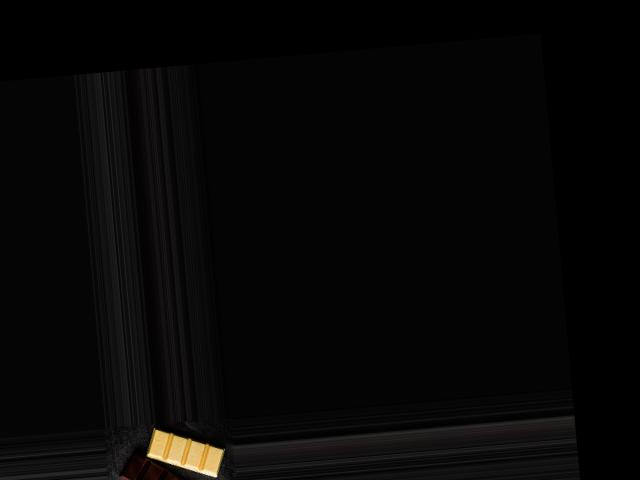chocolate: (116, 422, 234, 480)
